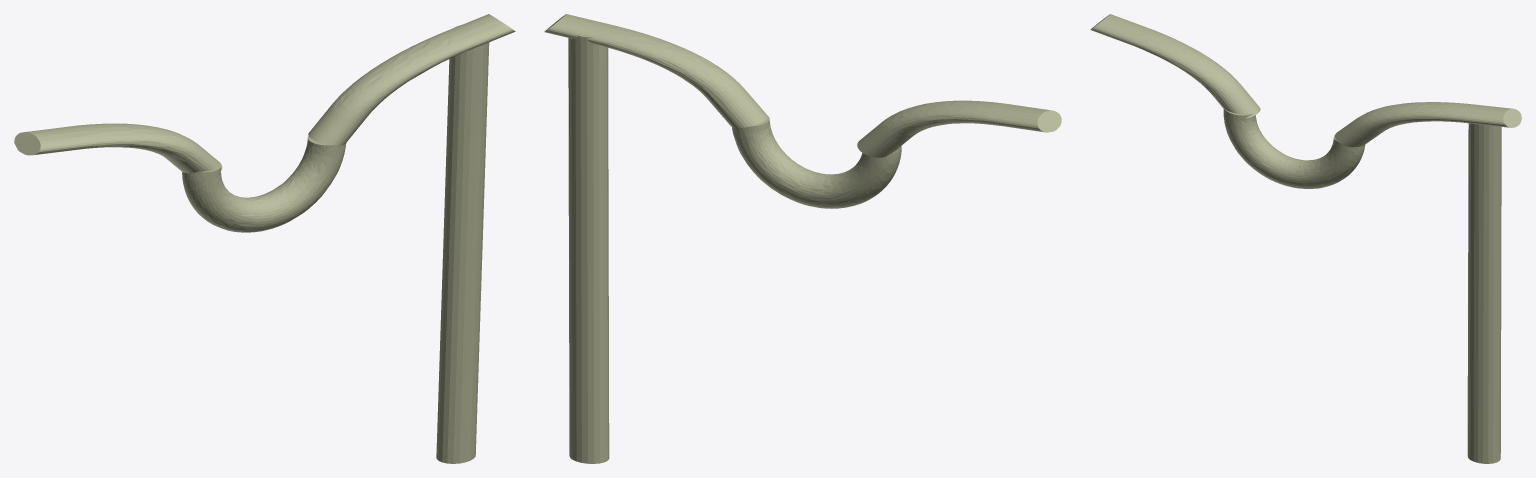
The model's file is tinker.obj.
The picture shows the model from 3 angles, left to right: view 1: azimuth 30°, elevation 25°; view 2: azimuth 150°, elevation 25°; view 3: azimuth 330°, elevation 25°; orthographic projection. The views are drawn at different scales.
Visible parts, largest first — view 1: obj_0; view 2: obj_0; view 3: obj_0.
Boxes of the visible parts, box(x1,y1,x2,y2) form: obj_0: box(14, 14, 515, 463); obj_0: box(544, 14, 1061, 463); obj_0: box(1090, 14, 1521, 463).
Bounding box in the file's own units: 68.94 × 58.08 × 9.48.
